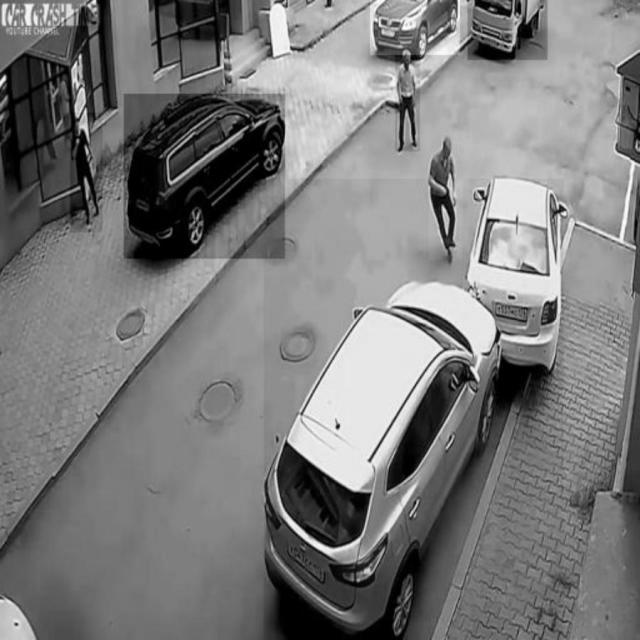accident: (264, 179, 564, 640)
person: (429, 123, 463, 260), (70, 113, 102, 233), (395, 47, 421, 151)
vehicle: (124, 94, 284, 259), (371, 0, 461, 55), (468, 0, 548, 60)
